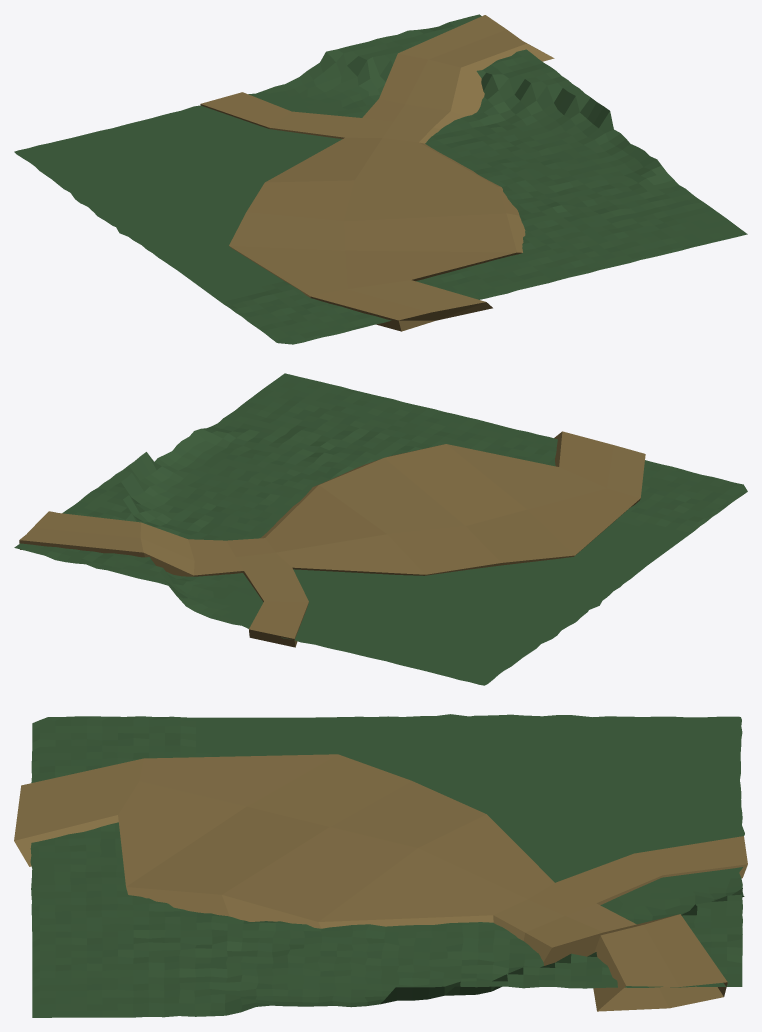
Rendered from athili_copse_section13.glb.
The picture shows the model from 3 angles, top to bottom: view 1: azimuth 30°, elevation 25°; view 2: azimuth 150°, elevation 25°; view 3: azimuth 270°, elevation 25°; orthographic projection. The views are drawn at different scales.
Parts seen in each view (by area): view 1: Grass, Road; view 2: Grass, Road; view 3: Grass, Road.
Part boxes in pixels (<box>): Grass: <box>14,14,747,344</box>; Road: <box>200,15,554,331</box>; Grass: <box>14,373,747,685</box>; Road: <box>19,431,645,647</box>; Grass: <box>30,714,744,1017</box>; Road: <box>14,754,747,1011</box>.
Bounding box in the file's own units: 62.42 × 4.74 × 61.13.
